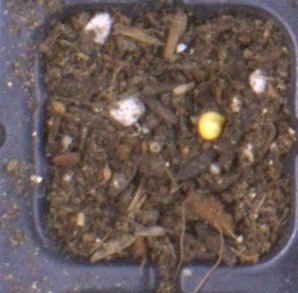chilli seed: (197, 110, 226, 141)
